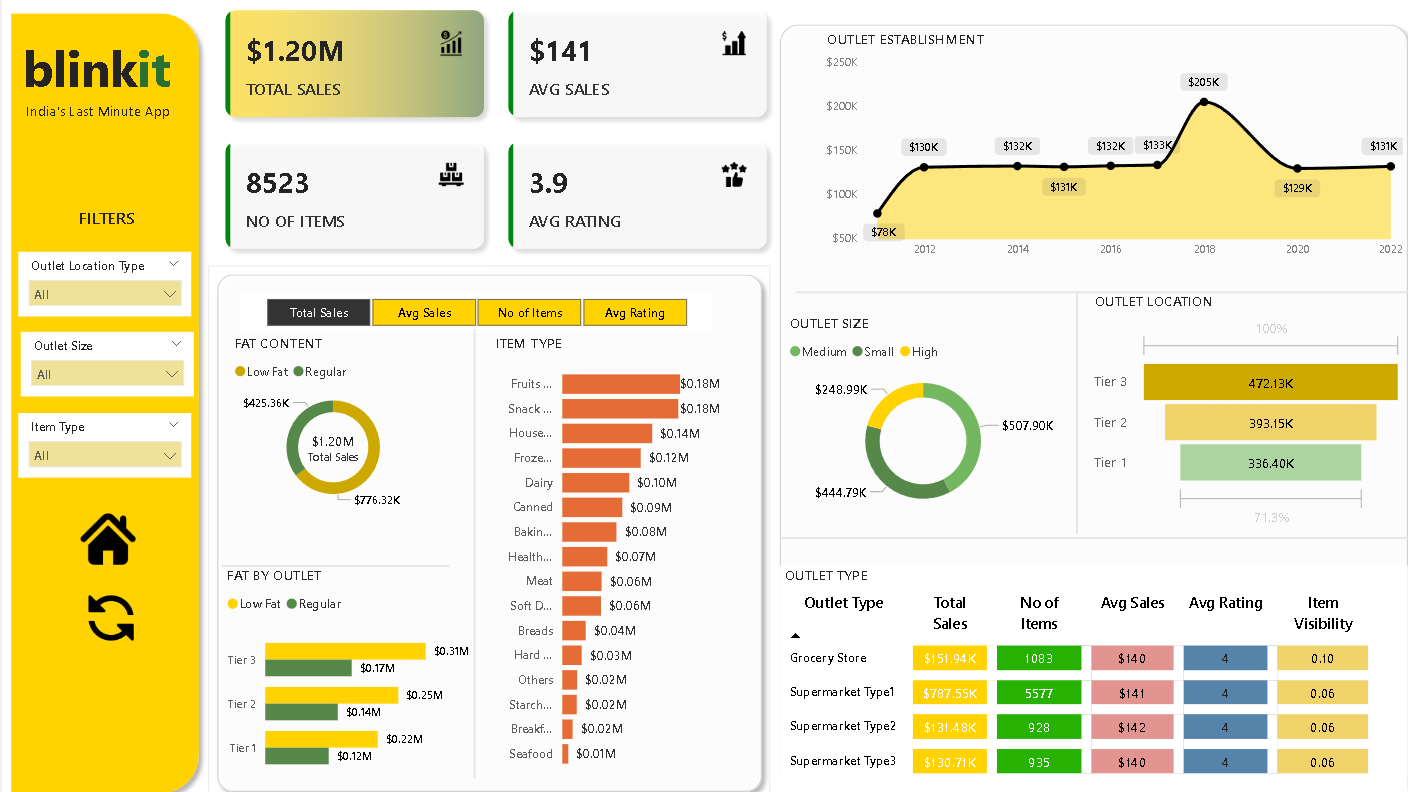

What the dashboard file says about the page in this screenshot:
{"tool":"powerbi","page":{"name":"Page 1","canvas":[1400,800],"ordinal":0},"visuals":[{"type":"shape","box":[0,10.7,203.8,789.5],"z":0},{"type":"textbox","box":[16.1,36.2,170.2,77.7],"z":1000},{"type":"textbox","box":[18.8,103.2,170.2,38.9],"z":2000},{"type":"cardVisual","fields":{"Data":["BlinkIT Grocery Data.Total Sales","BlinkIT Grocery Data.Avg Sales","BlinkIT Grocery Data.No of Items","BlinkIT Grocery Data.Avg Rating"]},"box":[204.1,0,570.3,270.2],"z":3000},{"type":"shape","box":[204.1,270.2,556.8,529.8],"z":4000},{"type":"donutChart","title":"FAT CONTENT","fields":{"Y":["BlinkIT Grocery Data.Total Sales"],"Category":["BlinkIT Grocery Data.Item Fat Content"]},"box":[225.1,336.2,205.6,180.1],"z":5000},{"type":"slicer","fields":{"Values":["Metrics.Metrics"]},"box":[235.6,295.7,465.3,40.5],"z":6000},{"type":"cardVisual","fields":{"Data":["BlinkIT Grocery Data.Total Sales"]},"box":[276.1,411.5,105.9,75.1],"z":7000},{"type":"clusteredBarChart","title":"FAT BY OUTLET","fields":{"Y":["BlinkIT Grocery Data.Total Sales"],"Category":["BlinkIT Grocery Data.Outlet Location Type"],"Series":["BlinkIT Grocery Data.Item Fat Content"]},"box":[217.2,567,250.7,221.2],"z":8000},{"type":"shape","box":[217.6,543.3,225.1,48],"z":9000},{"type":"shape","box":[442.8,333.2,49.5,444.3],"z":10000},{"type":"barChart","title":" ITEM TYPE","fields":{"Y":["BlinkIT Grocery Data.Total Sales"],"Category":["BlinkIT Grocery Data.Item Type"]},"box":[483.3,336.2,232.6,441.3],"z":11000},{"type":"shape","box":[760.1,22.8,639.4,777.5],"z":12000},{"type":"lineChart","title":"OUTLET ESTABLISHMENT ","fields":{"Category":["BlinkIT Grocery Data.Outlet Establishment Year"],"Y":["BlinkIT Grocery Data.Total Sales"]},"box":[812,36,580,235],"z":13000},{"type":"shape","box":[785,271.7,606.3,48],"z":14000},{"type":"donutChart","title":"OUTLET SIZE","fields":{"Y":["BlinkIT Grocery Data.Total Sales"],"Category":["BlinkIT Grocery Data.Outlet Size"]},"box":[774.4,316.7,274.7,207.1],"z":15000},{"type":"shape","box":[1038.6,295.7,49.5,240.1],"z":16000},{"type":"funnel","title":"OUTLET LOCATION","fields":{"Y":["Sum(BlinkIT Grocery Data.Sales)"],"Category":["BlinkIT Grocery Data.Outlet Location Type"]},"box":[1076.1,295.7,315.2,240.1],"z":17000},{"type":"shape","box":[769.4,516.1,622,46.9],"z":18000},{"type":"pivotTable","title":"OUTLET TYPE","fields":{"Rows":["BlinkIT Grocery Data.Outlet Type"],"Values":["BlinkIT Grocery Data.Total Sales","BlinkIT Grocery Data.No of Items","BlinkIT Grocery Data.Avg Sales","BlinkIT Grocery Data.Avg Rating","Avg(BlinkIT Grocery Data.Item Visibility)"]},"box":[769.4,567,622,233.2],"z":19000},{"type":"slicer","fields":{"Values":["BlinkIT Grocery Data.Outlet Location Type"]},"box":[16.1,256,171.6,64.3],"z":20000},{"type":"slicer","fields":{"Values":["BlinkIT Grocery Data.Outlet Size"]},"box":[18.8,335.1,171.6,64.3],"z":21000},{"type":"slicer","fields":{"Values":["BlinkIT Grocery Data.Item Type"]},"box":[16.1,415.6,171.6,64.3],"z":22000},{"type":"shape","title":"FILTERS","box":[22.8,210.5,163.5,24.1],"z":23000},{"type":"image","box":[79.1,591.2,57.6,55],"z":23001},{"type":"image","box":[72.4,508,64.3,64.3],"z":23002}]}

Visuals, with their boxes in screenshot pixels (x1, y1, x2, y2), scaled from the page's 1400x800 canvas onto the 1408x792 screenshot:
shape: Rect(0, 11, 205, 791)
textbox: Rect(16, 36, 187, 113)
textbox: Rect(19, 102, 190, 141)
cardVisual - BlinkIT Grocery Data.Total Sales x BlinkIT Grocery Data.Avg Sales: Rect(205, 0, 779, 267)
shape: Rect(205, 267, 765, 791)
"FAT CONTENT" donutChart: Rect(226, 333, 433, 511)
slicer - Metrics.Metrics: Rect(237, 293, 705, 333)
cardVisual - BlinkIT Grocery Data.Total Sales: Rect(278, 407, 384, 482)
"FAT BY OUTLET" clusteredBarChart: Rect(218, 561, 471, 780)
shape: Rect(219, 538, 445, 585)
shape: Rect(445, 330, 495, 770)
" ITEM TYPE" barChart: Rect(486, 333, 720, 770)
shape: Rect(764, 23, 1407, 791)
"OUTLET ESTABLISHMENT " lineChart: Rect(817, 36, 1400, 268)
shape: Rect(789, 269, 1399, 317)
"OUTLET SIZE" donutChart: Rect(779, 314, 1055, 519)
shape: Rect(1045, 293, 1094, 530)
"OUTLET LOCATION" funnel: Rect(1082, 293, 1399, 530)
shape: Rect(774, 511, 1399, 557)
"OUTLET TYPE" pivotTable: Rect(774, 561, 1399, 791)
slicer - BlinkIT Grocery Data.Outlet Location Type: Rect(16, 253, 189, 317)
slicer - BlinkIT Grocery Data.Outlet Size: Rect(19, 332, 191, 395)
slicer - BlinkIT Grocery Data.Item Type: Rect(16, 411, 189, 475)
"FILTERS" shape: Rect(23, 208, 187, 232)
image: Rect(80, 585, 137, 640)
image: Rect(73, 503, 137, 567)
